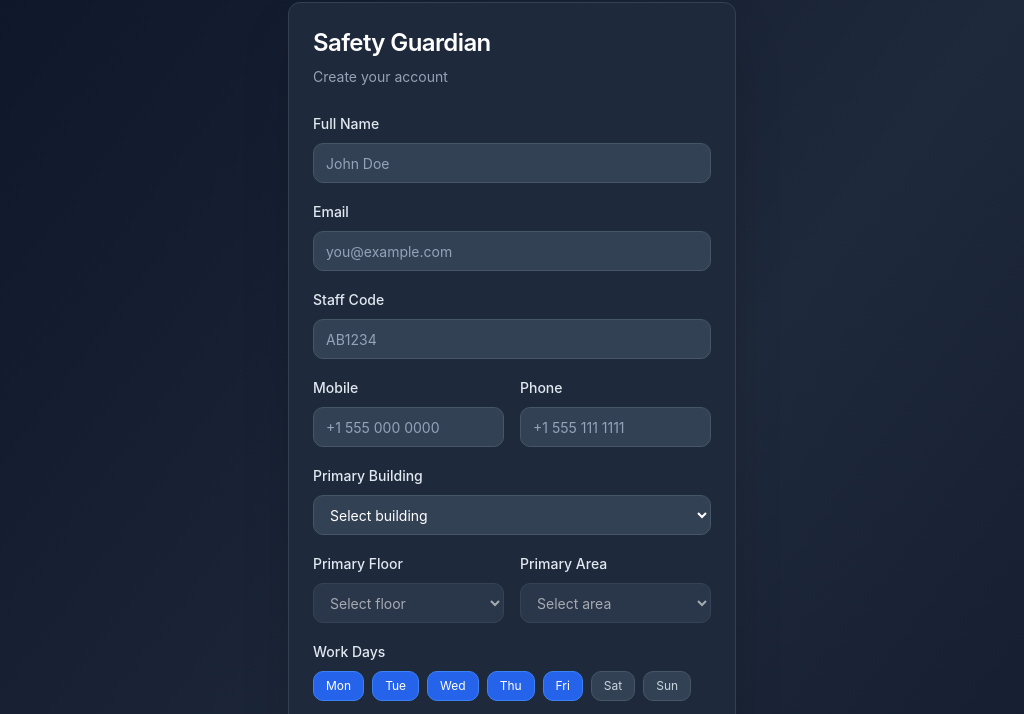
Test case: Auth page UI negative states › renders generic register failure when auth rejects a non-Error value
This screenshot has width=1024, height=714.
Type "Safety User" into the field labelled "Full Name" at (512, 163), box 313,143 -> 711,183
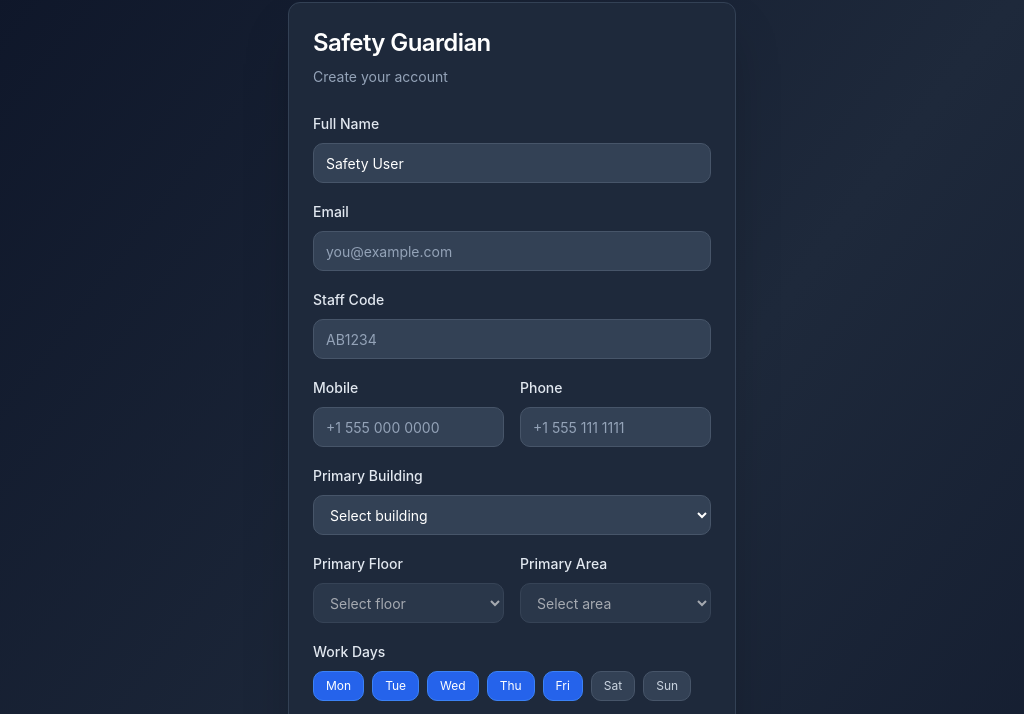
Type "user@example.com" into the field labelled "Email" at (512, 251), box 313,231 -> 711,271
(page scrolled)
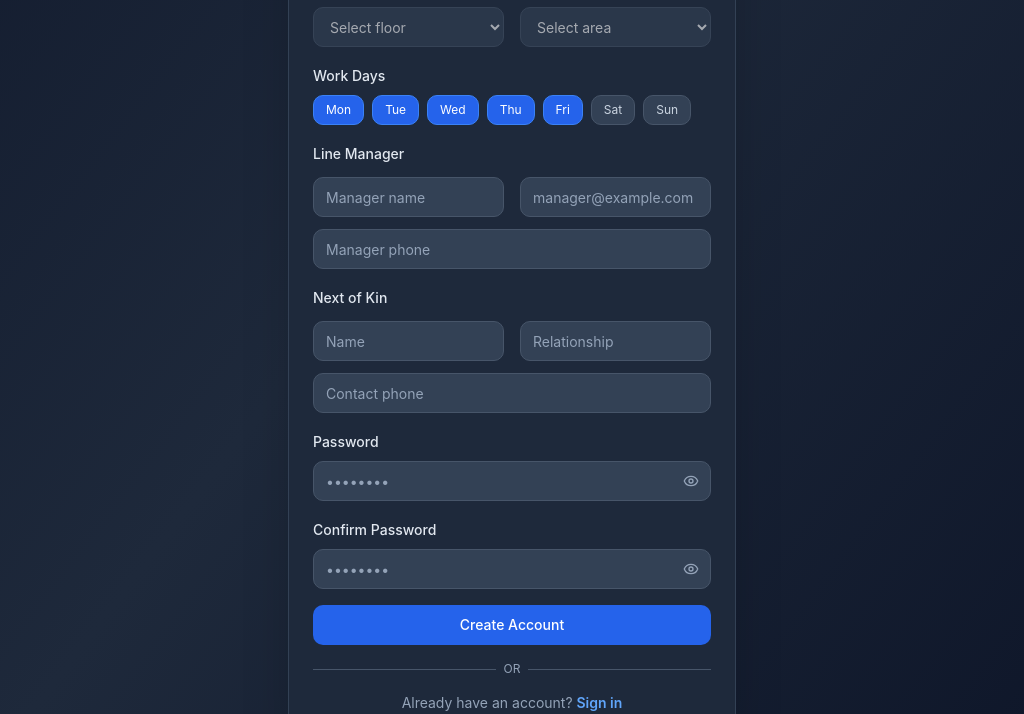
Type "Valid123" into the password field labelled "Password" at (512, 481), box 313,461 -> 711,501
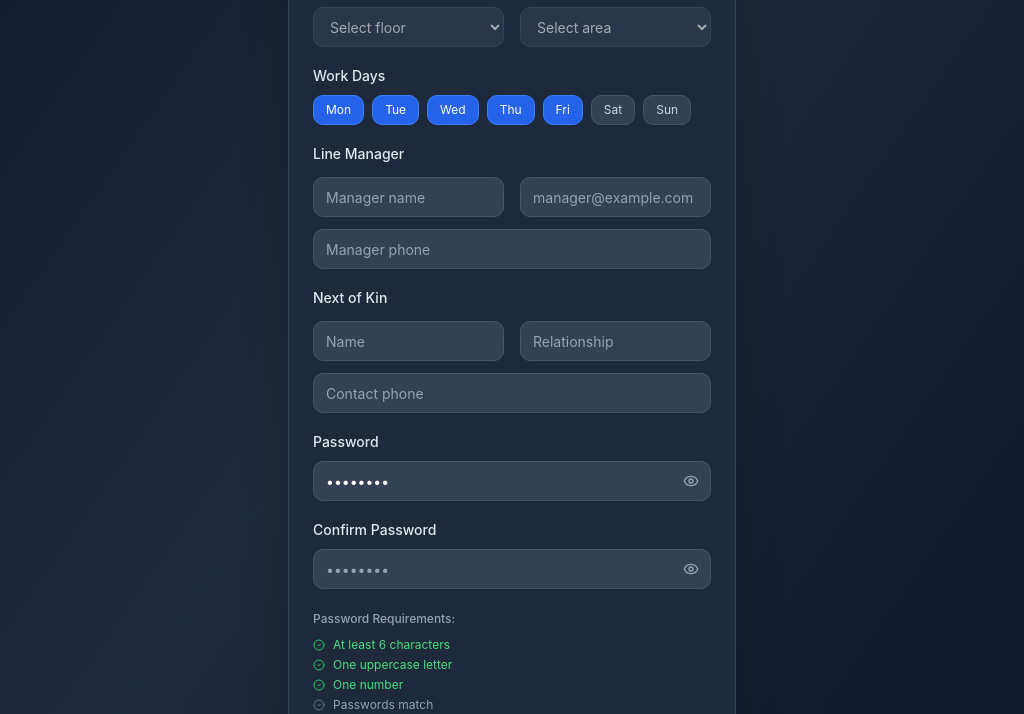
Type "Valid123" into the password field labelled "Confirm Password" at (512, 569), box 313,549 -> 711,589
(page scrolled)
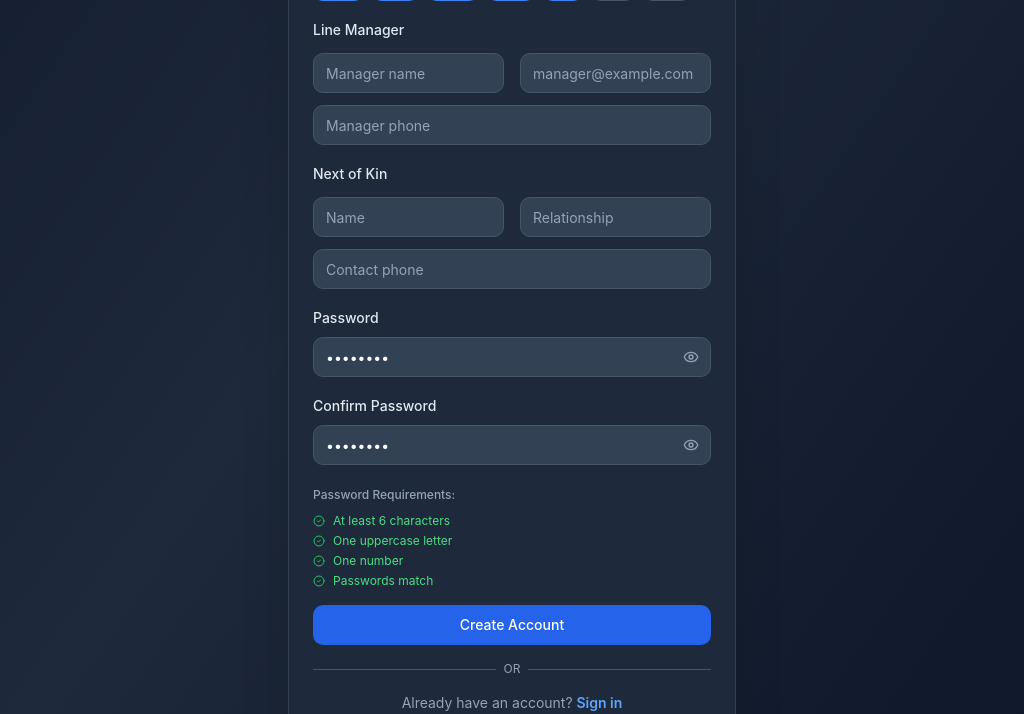
Click the button "Create Account" at (512, 625), box 313,605 -> 711,645
(page scrolled)
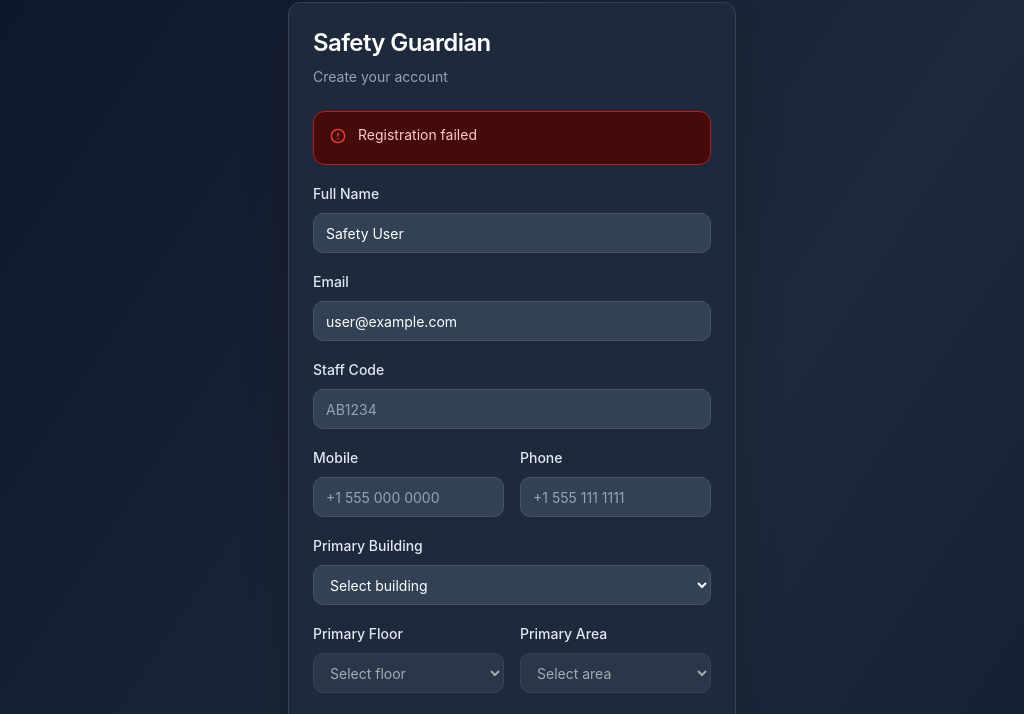
Now the text "Registration failed" is shown, box 358,126 -> 477,143
